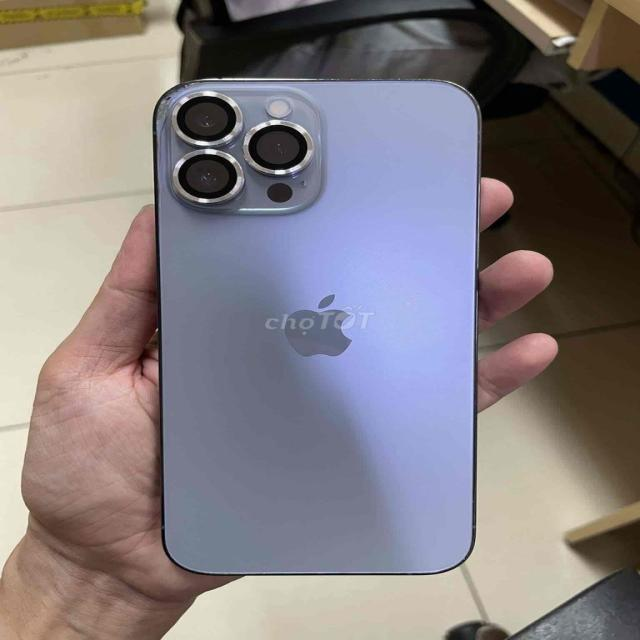gen_12_13: (147, 77, 484, 582)
